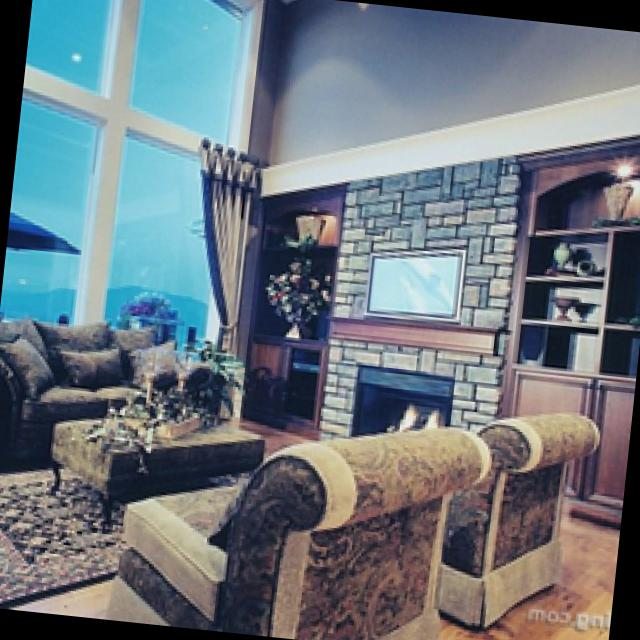2001: (1, 86, 100, 322), (114, 131, 221, 344), (131, 0, 244, 137), (31, 0, 122, 87)
armchair crop: (109, 425, 491, 640), (436, 414, 608, 624)
bouquet: (268, 256, 334, 334)
cabinet door: (508, 136, 640, 517), (247, 182, 350, 438)
candle holder: (146, 369, 164, 400)
curtain crop: (206, 140, 259, 354)
decoration -X: (87, 384, 209, 458)
fireplace mantle: (359, 362, 457, 430)
lamp crop: (621, 156, 638, 175)
ottoman: (61, 411, 260, 521)
pillow occluded: (4, 332, 58, 393), (133, 338, 180, 381), (69, 343, 125, 377)
plant -x: (194, 338, 249, 416)
rug -partially obscured-: (0, 436, 268, 597)
sofa bed: (0, 324, 232, 464)
television cabinet: (366, 248, 468, 314)
vase -X: (599, 182, 636, 224), (298, 202, 328, 246), (549, 290, 589, 317)
vases: (552, 236, 592, 269)
vcr: (295, 358, 323, 368)
